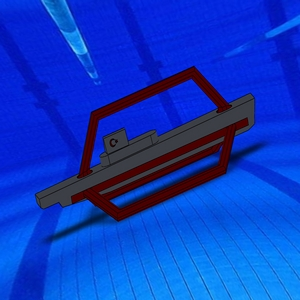submarine: (32, 62, 256, 224)
